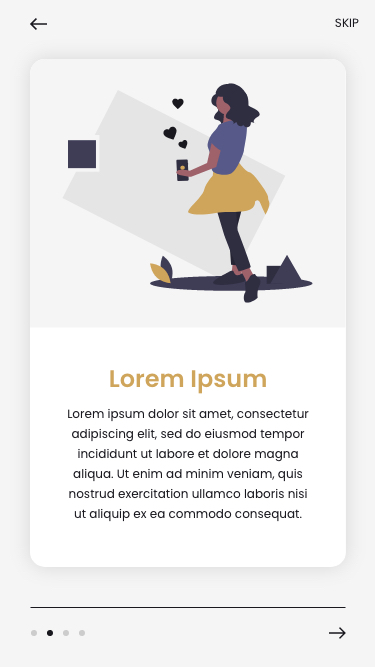Card: (30, 58, 347, 569)
Icon: (31, 19, 48, 31), (329, 627, 346, 639)
Image: (63, 83, 314, 304)
PageIndicator: (31, 630, 86, 637)
Text: (69, 409, 310, 522), (110, 370, 267, 395), (335, 19, 359, 28)
